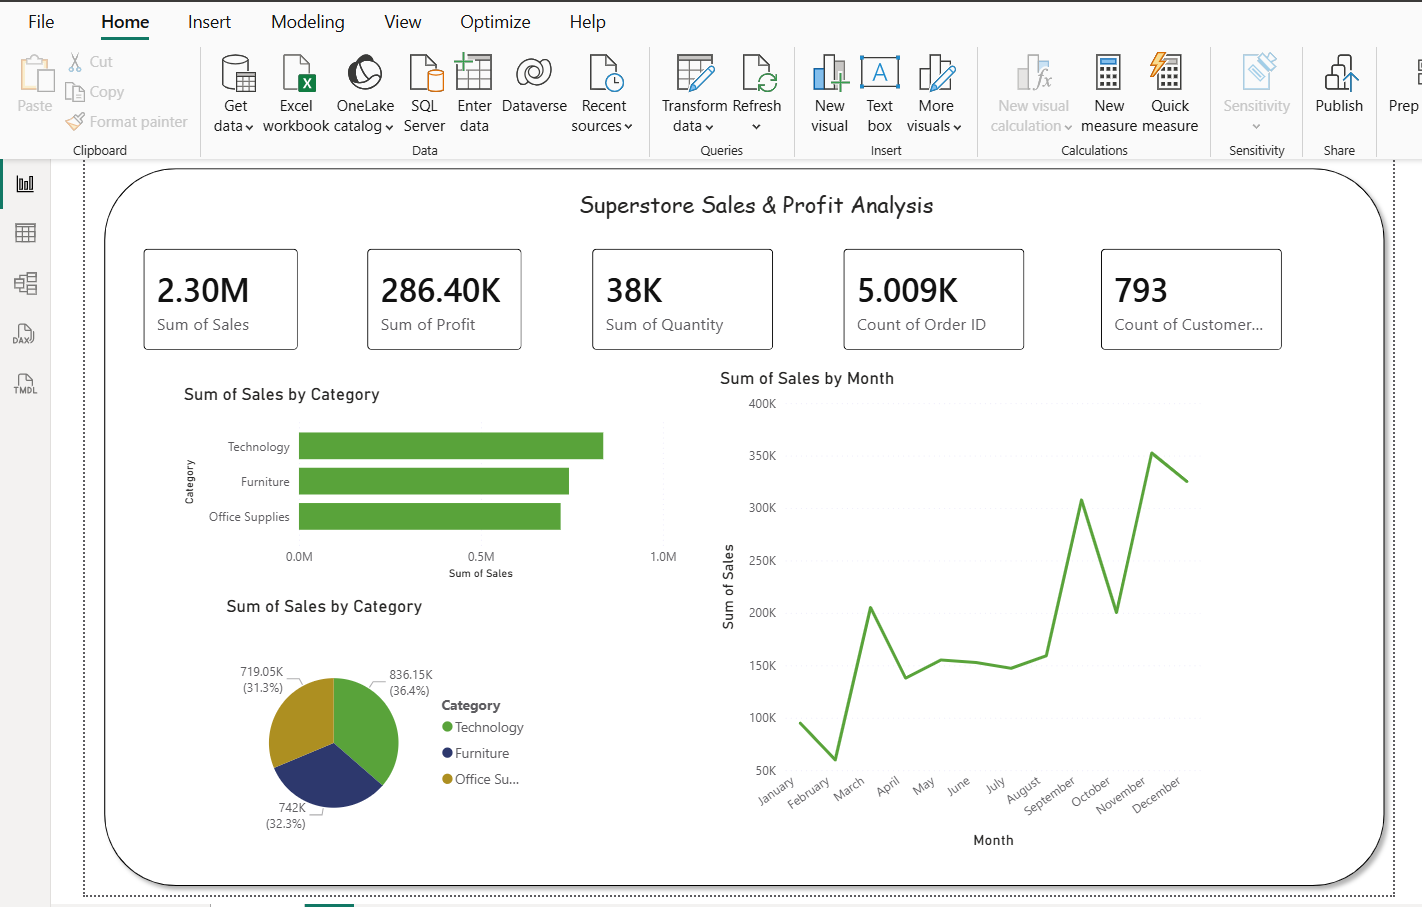

Layout of this report page (visuals, bound fields, positions):
{"tool":"powerbi","page":{"name":"Page 1","canvas":[1280,720],"ordinal":0},"visuals":[{"type":"shape","box":[9.8,0,1270.5,720.2],"z":0},{"type":"cardVisual","fields":{"Data":["Sum(sample-data.Sales)"]},"box":[40.4,70.9,185.9,133.3],"z":1000},{"type":"cardVisual","fields":{"Data":["Sum(sample-data.Profit)"]},"box":[259.2,70.9,185.9,133.3],"z":2000},{"type":"cardVisual","fields":{"Data":["Count(sample-data.Order ID)"]},"box":[725.1,70.9,211.6,133.3],"z":3000},{"type":"cardVisual","fields":{"Data":["Count(sample-data.Customer ID)"]},"box":[977,70.9,211.6,133.3],"z":4000},{"type":"barChart","fields":{"Category":["sample-data.Category"],"Y":["Sum(sample-data.Sales)"]},"box":[91.7,220.1,492.8,196.9],"z":5000},{"type":"lineChart","fields":{"Category":["sample-data.Order Date.Variation.Date Hierarchy.Month","sample-data.Order Date.Variation.Date Hierarchy.Day"],"Y":["Sum(sample-data.Sales)"]},"box":[616.3,204.2,480.6,475.7],"z":6000},{"type":"pieChart","fields":{"Category":["sample-data.Category"],"Y":["Sum(sample-data.Sales)"]},"box":[132.9,427.1,311.4,268.6],"z":7000},{"type":"cardVisual","fields":{"Data":["Sum(sample-data.Quantity)"]},"box":[479.4,70.9,211.6,133.3],"z":8000},{"type":"textbox","box":[226.2,24.5,802.2,46.5],"z":9000}]}

Visuals, with their boxes on the page's 1280x720 design canvas (x1, y1, x2, y2). These are canvas units, not pixel positions in the 1422x907 screenshot, which may show the page scaled, cropped or inside an application window:
shape: (left=10, top=0, right=1280, bottom=720)
cardVisual - Sum(sample-data.Sales): (left=40, top=71, right=226, bottom=204)
cardVisual - Sum(sample-data.Profit): (left=259, top=71, right=445, bottom=204)
cardVisual - Count(sample-data.Order ID): (left=725, top=71, right=937, bottom=204)
cardVisual - Count(sample-data.Customer ID): (left=977, top=71, right=1189, bottom=204)
barChart - sample-data.Category x Sum(sample-data.Sales): (left=92, top=220, right=584, bottom=417)
lineChart - sample-data.Order Date.Variation.Date Hierarchy.Month x sample-data.Order Date.Variation.Date Hierarchy.Day: (left=616, top=204, right=1097, bottom=680)
pieChart - sample-data.Category x Sum(sample-data.Sales): (left=133, top=427, right=444, bottom=696)
cardVisual - Sum(sample-data.Quantity): (left=479, top=71, right=691, bottom=204)
textbox: (left=226, top=24, right=1028, bottom=71)
